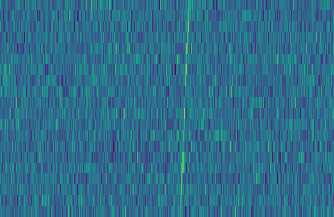signal: (175, 0, 193, 217)
